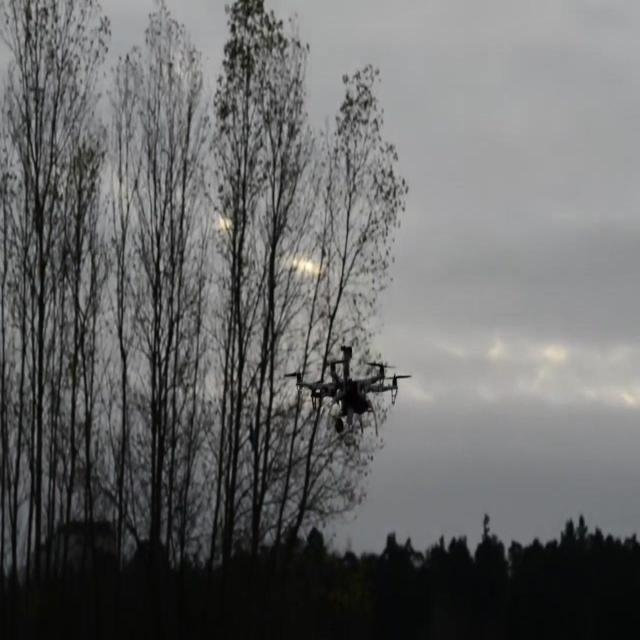drone: (284, 343, 412, 442)
